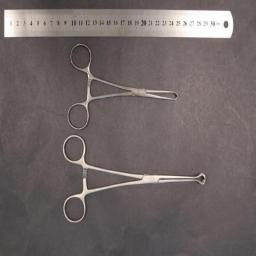Allis Tissue Forceps: (66, 42, 178, 132)
